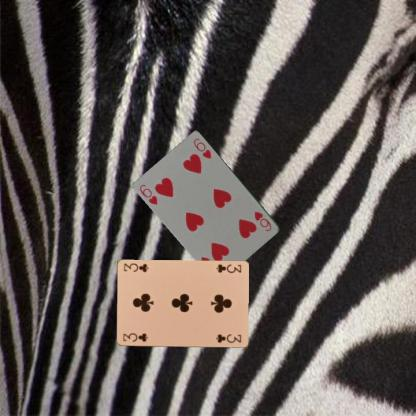3c: (120, 331, 149, 343), (214, 262, 242, 274)
6h: (251, 208, 273, 233), (137, 182, 159, 206)
